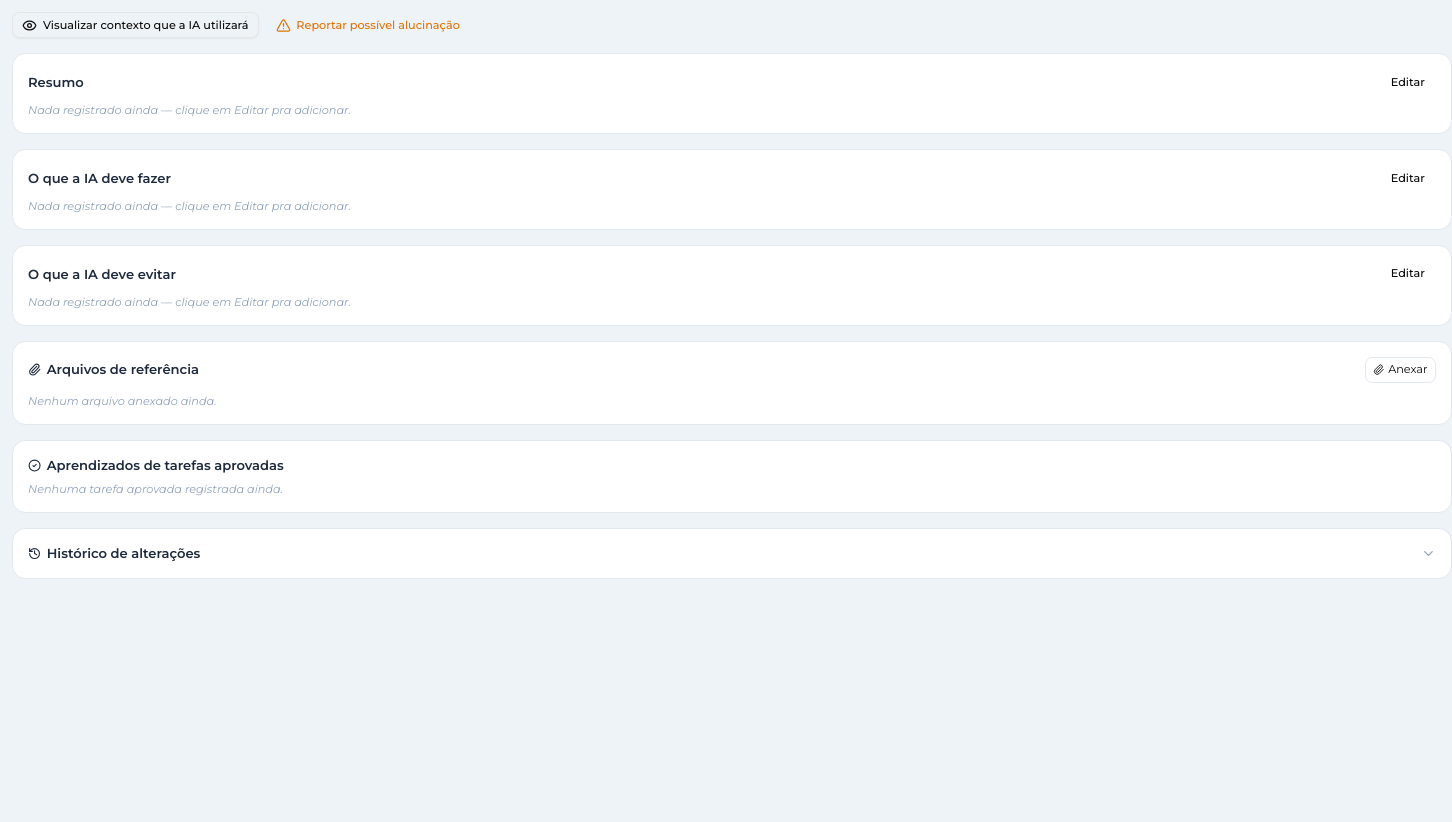
MemoryPanel › erro 409 de concorrência aparece SÓ na seção editada, sem perder o rascunho do usuário
The width and height of the screenshot is (1452, 822).
Expected: the heading "Resumo" is shown, top-left (28, 73), bottom-right (84, 92)
Click the button "Editar" in the row of "Resumo" at x=1408, y=82, box top-left (1380, 69), bottom-right (1436, 96)
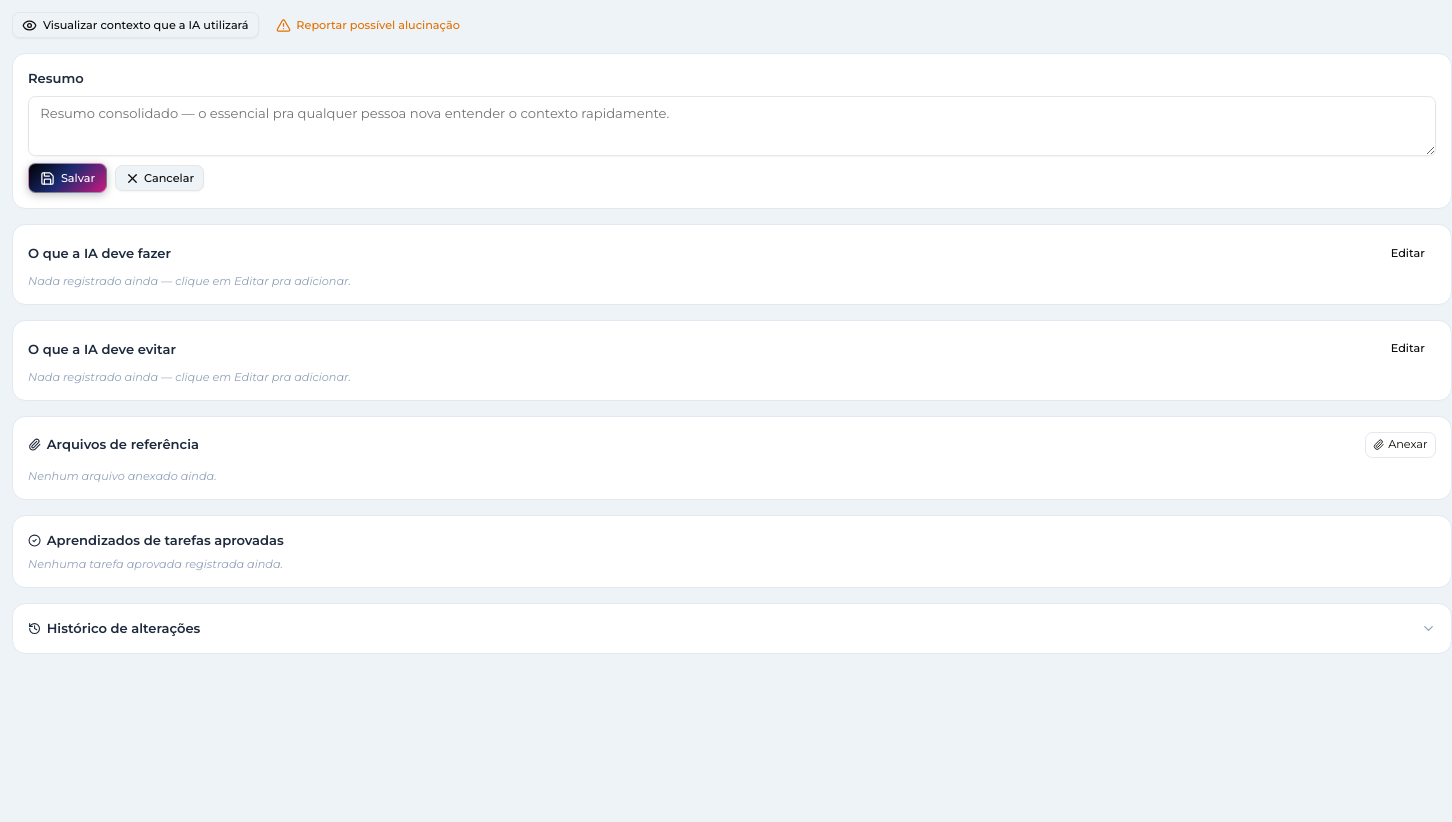
Type "Rascunho que não pode ser perdido" into the text box with placeholder "Resumo consolidado" at x=732, y=126, box top-left (28, 96), bottom-right (1436, 156)
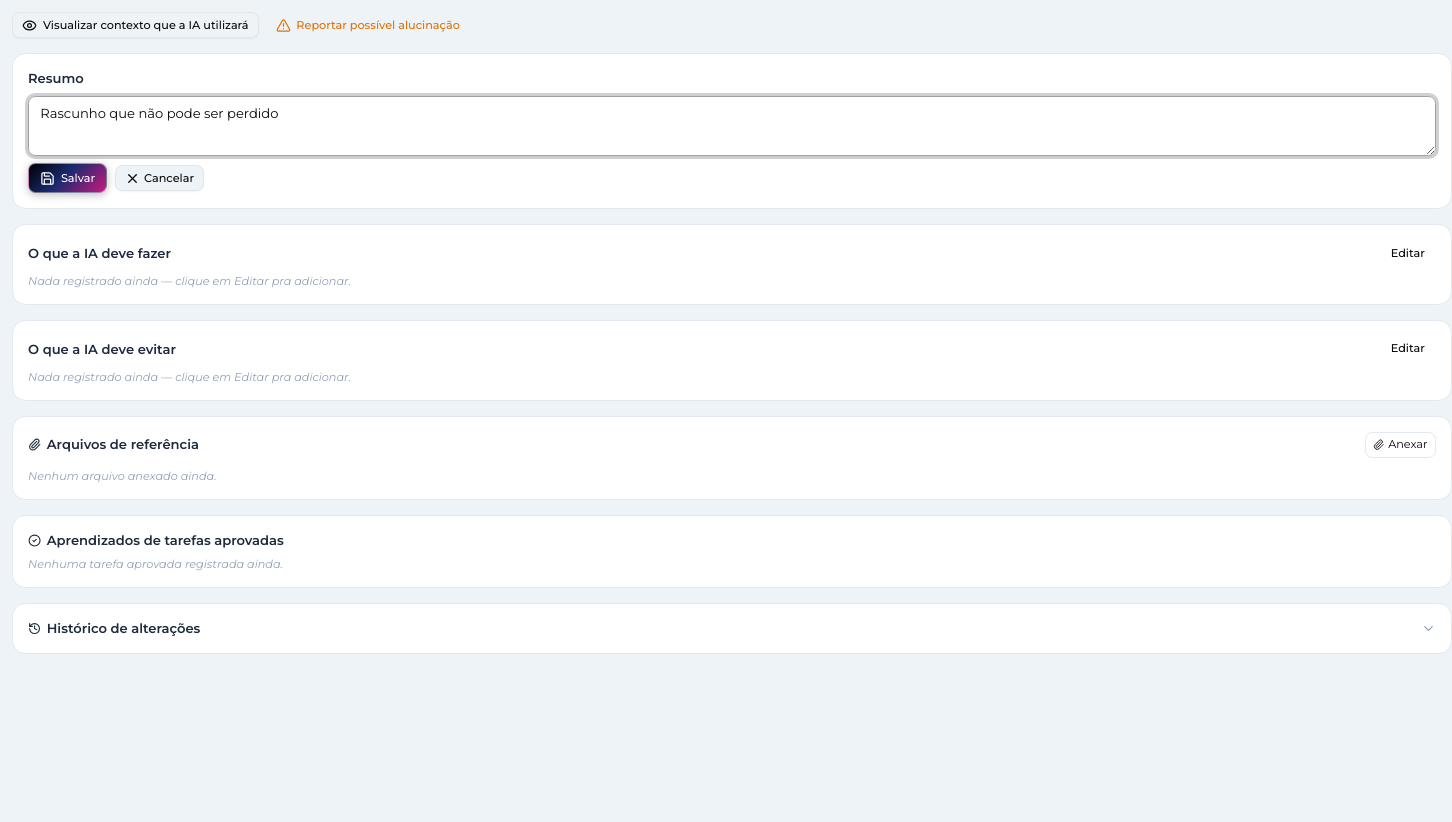
Click the button "Salvar" at x=68, y=178, box top-left (28, 163), bottom-right (107, 193)
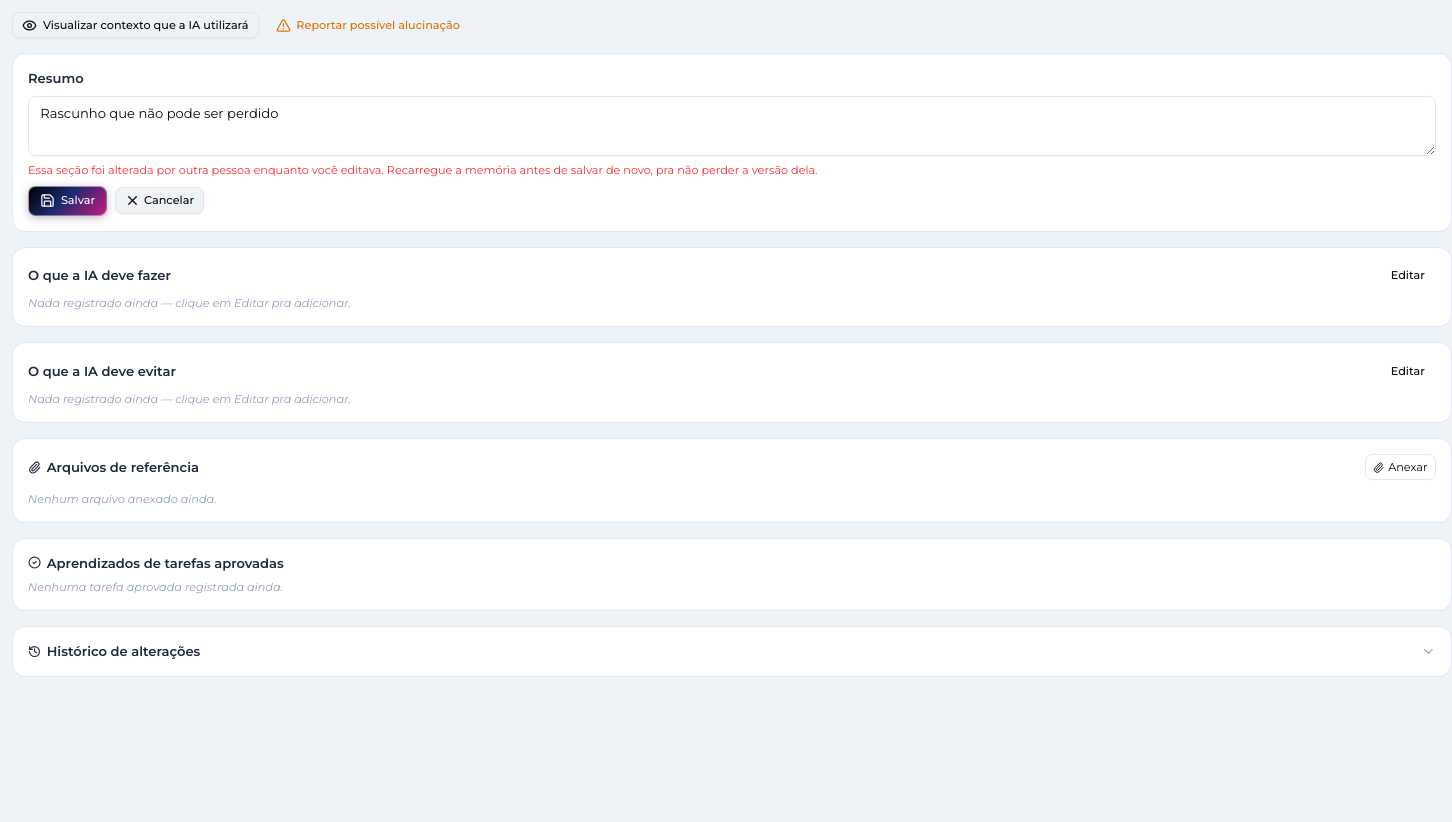
Expected: the text "alterada por outra pessoa" is shown, top-left (28, 163), bottom-right (818, 177)
